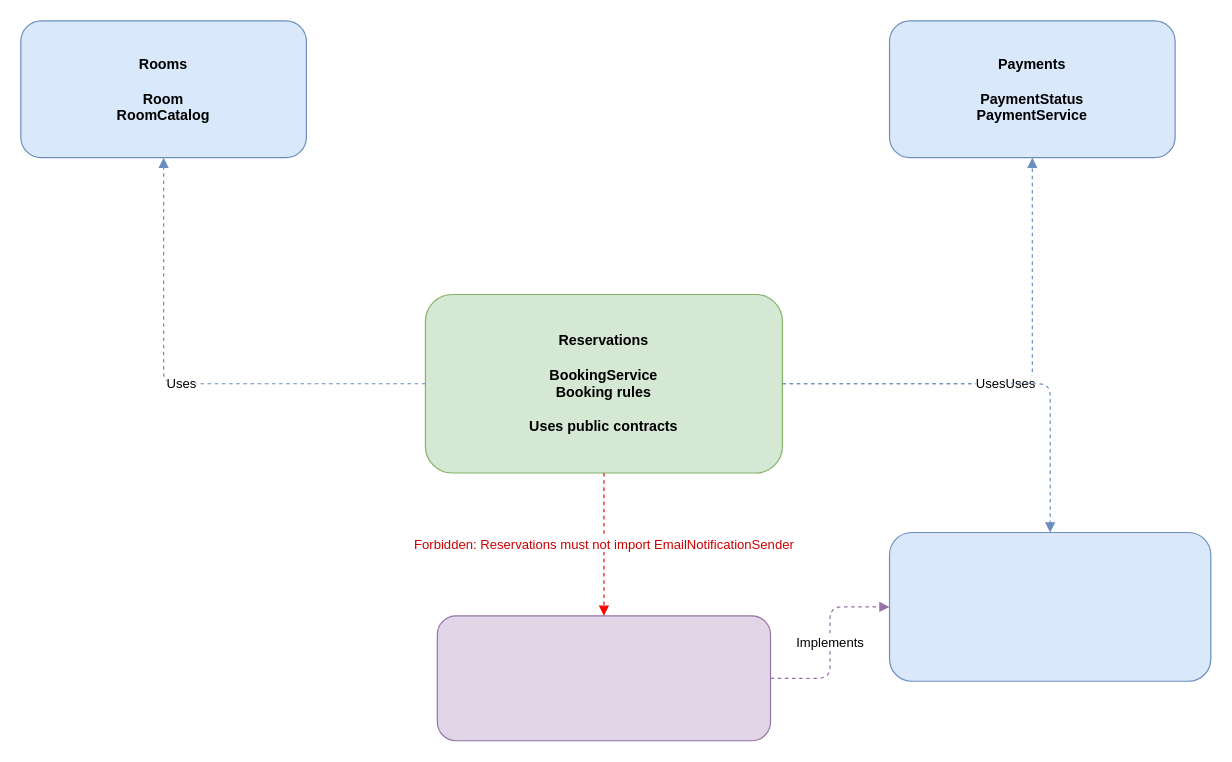
This 1232x762 diagram has some shape labels left out. The shapes that lost their labels are listed below. From the top down, each one's box as (x1, y1, x2, y2) in pixels, then its label:
(888, 531, 1211, 681): Notifications Confirmation NotificationSender (contract)
(436, 615, 771, 741): EmailNotificationSender INTERNAL
